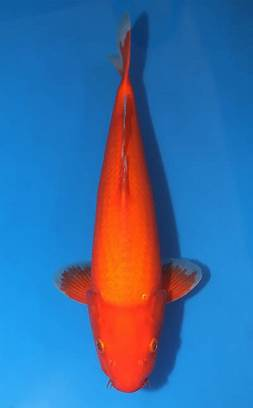red: (51, 14, 203, 393)
